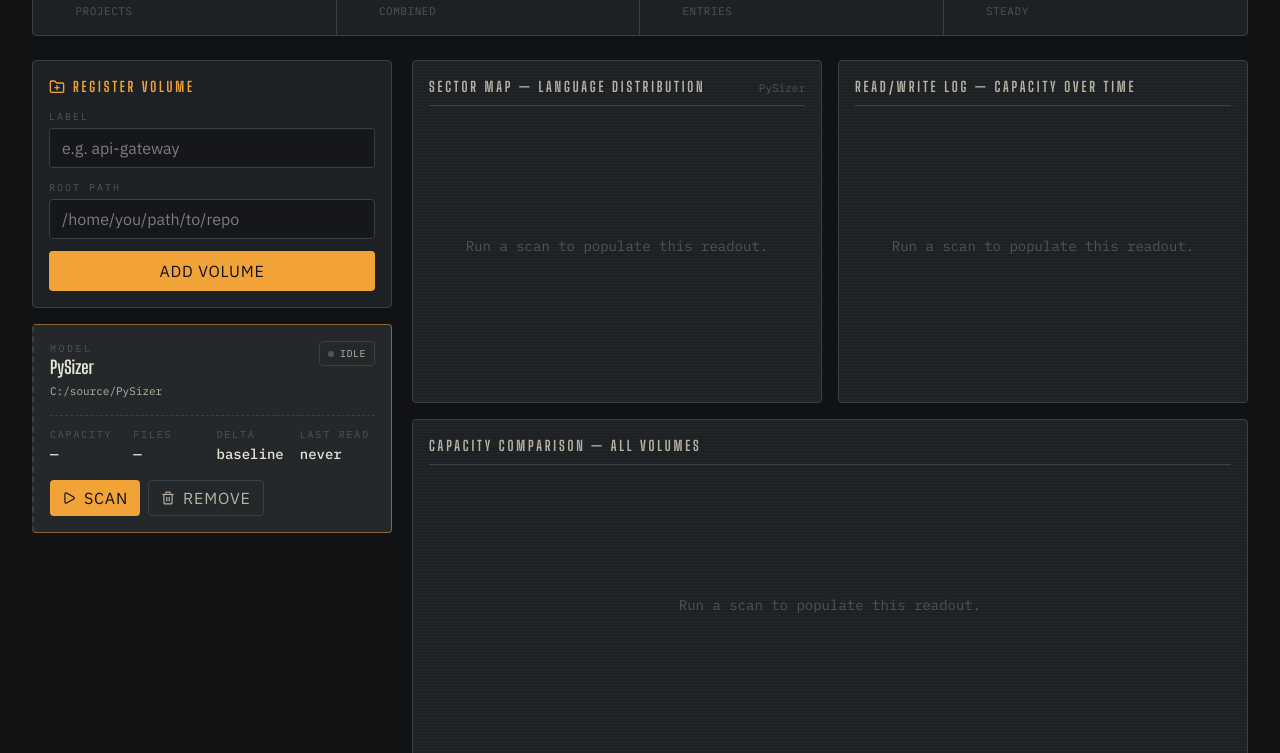
Test case: shows a delete error
(page scrolled)
Click the button "Remove": click(206, 498) [148,480,264,516]
(page scrolled)
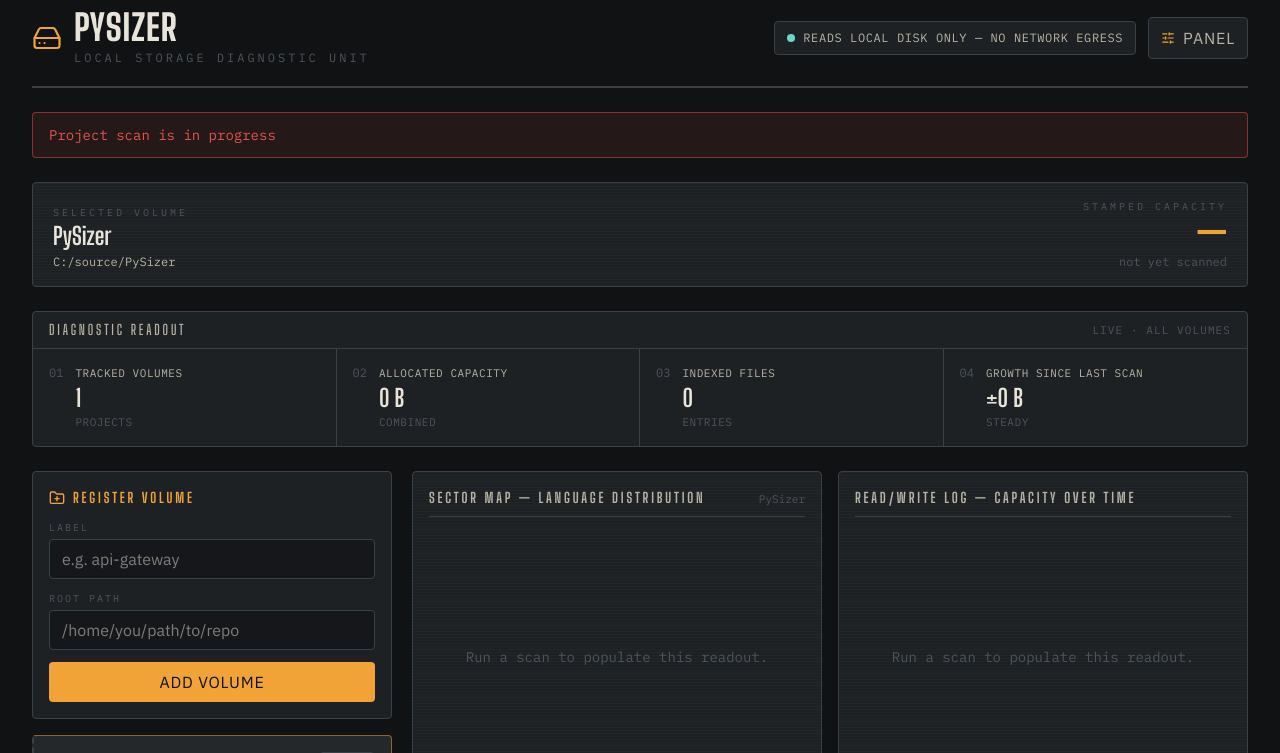
Now the message reads "Project scan is in progress", box [49,126,276,144]
